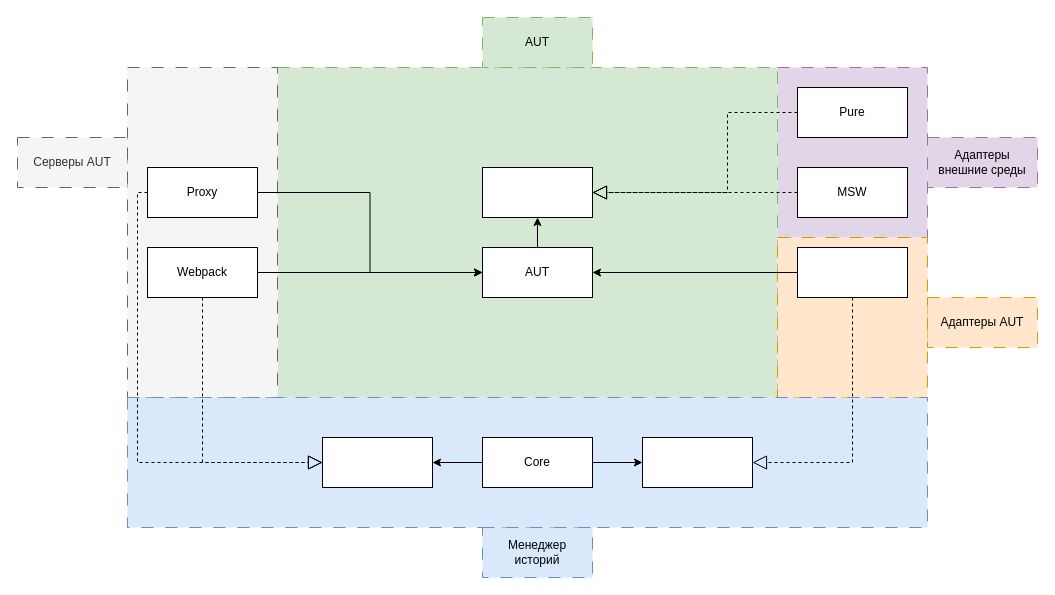
This 1055x595 diagram has some shape labels left out. The shapes that lost their labels are listed below. From the top down, each one's box as (x1, y1, x2, y2) in pixels, then its label:
(482, 166, 592, 218): «interface» IExternals
(796, 246, 908, 298): React
(322, 436, 432, 488): «interface» IPreviewServer
(642, 436, 752, 488): «interface» IPreviewDisplay
